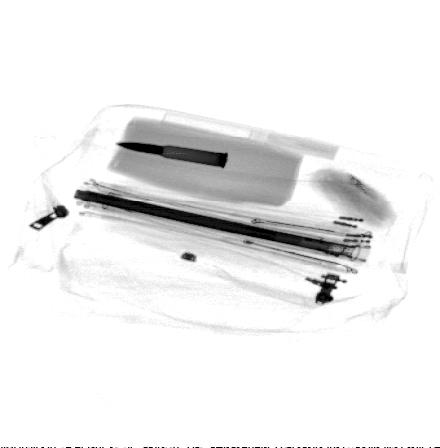Bullet: (112, 140, 231, 169)
